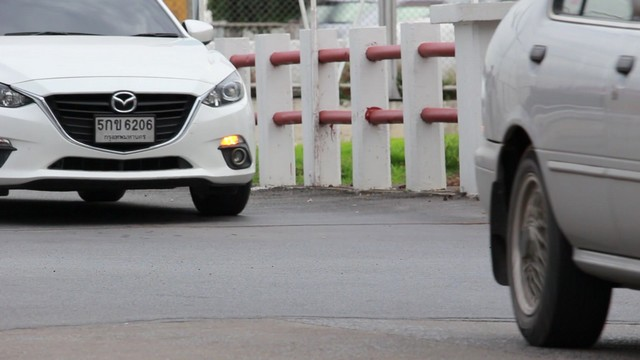in: (96, 118, 153, 142)
out: (91, 114, 157, 147)
